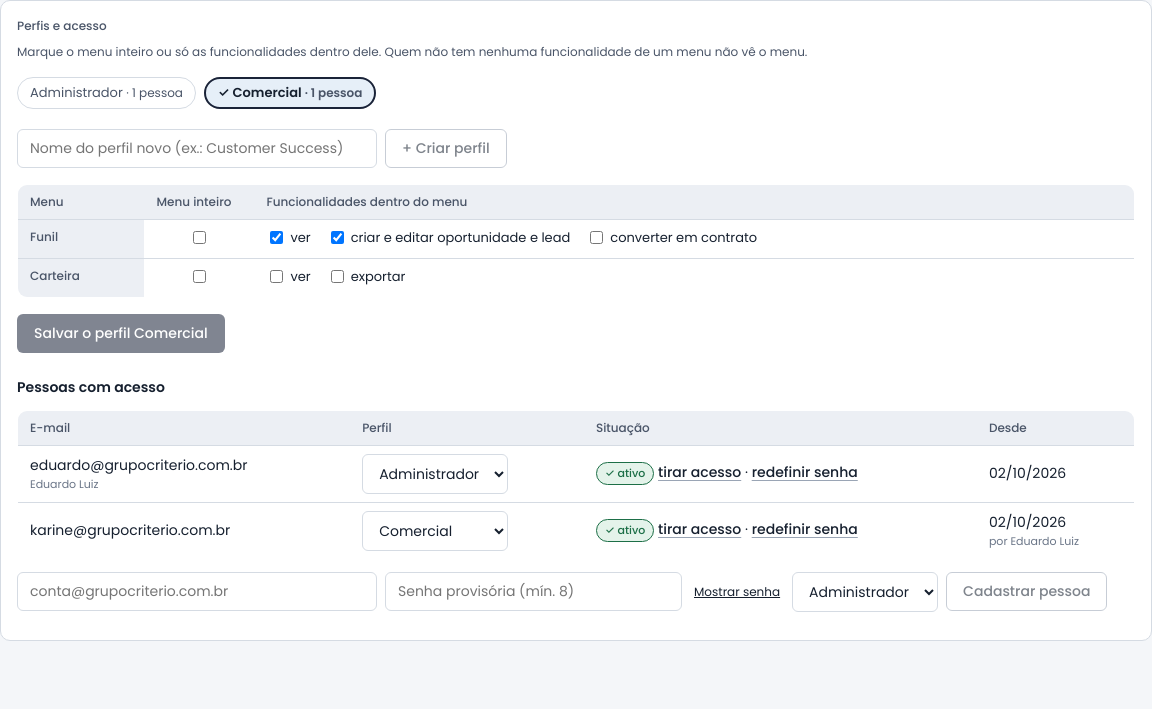
it: Perfis e acesso no login com senha (issue #89) › redefine a senha de uma pessoa
Click the button with aria-label "Redefinir senha de karine@grupocriterio.com.br".
click(805, 530)  # box [752,519,858,540]
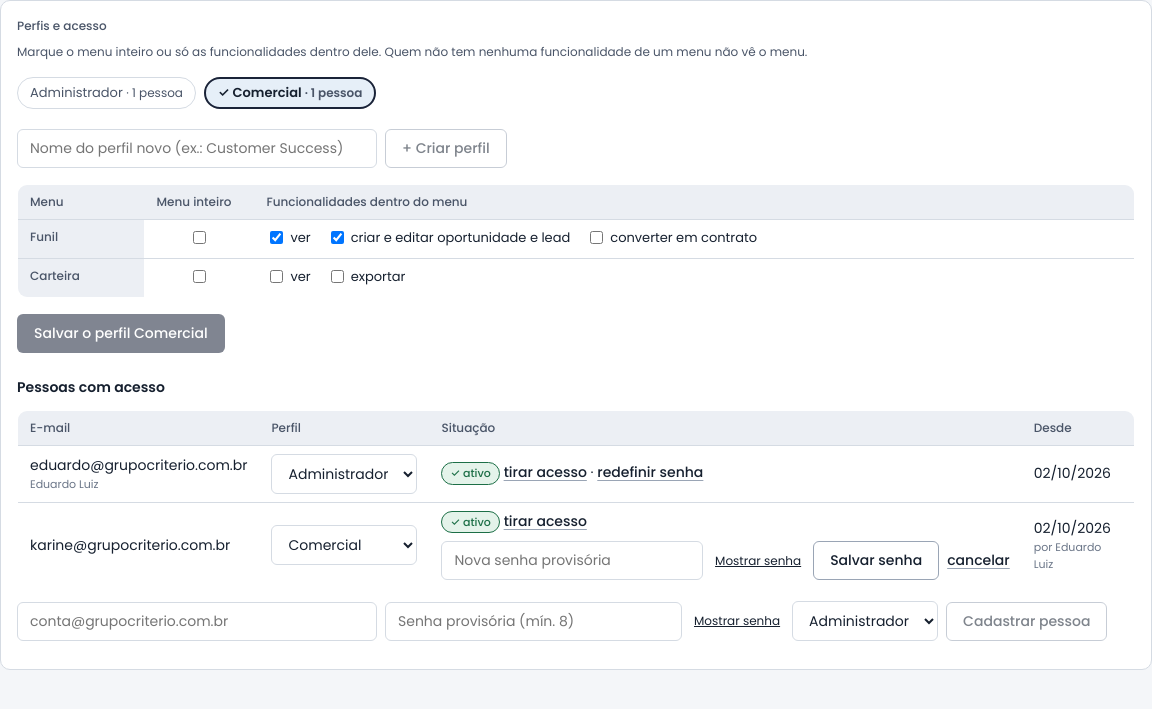
Type "1234567" into the password field named "Nova senha provisória de karine@grupocriterio.com.br".
click(572, 560); type("1234567")  # box [442,541,703,580]
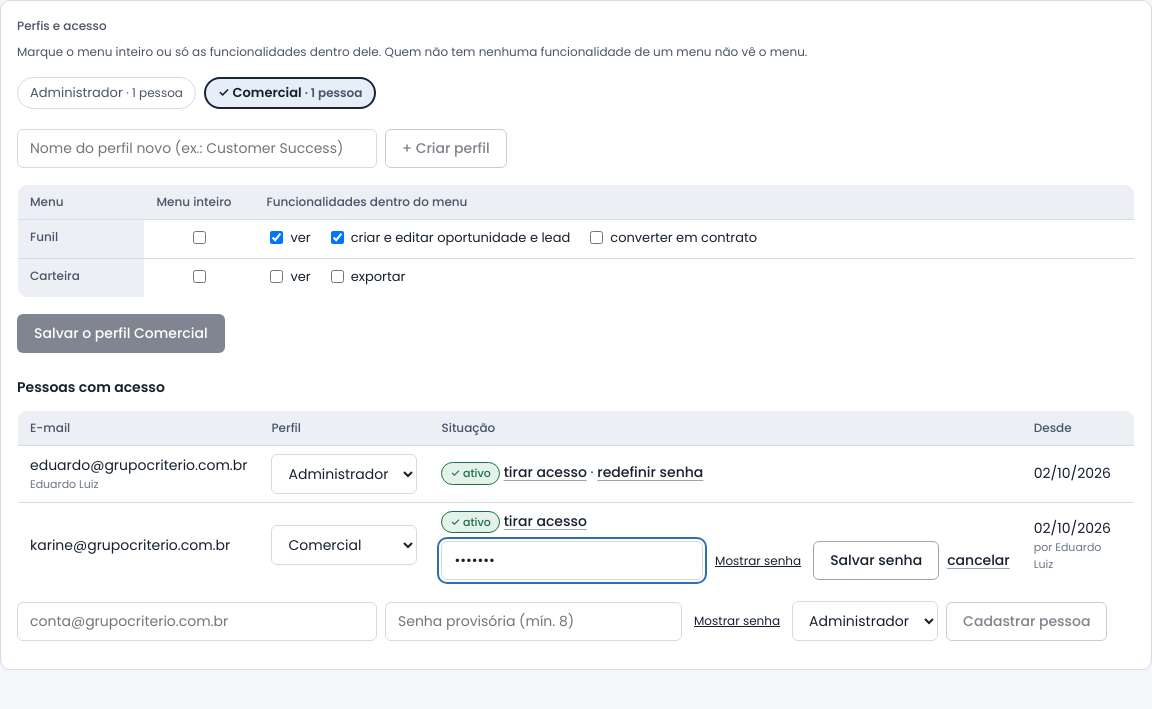
Click the button "Salvar senha".
click(876, 560)  # box [813,541,939,580]
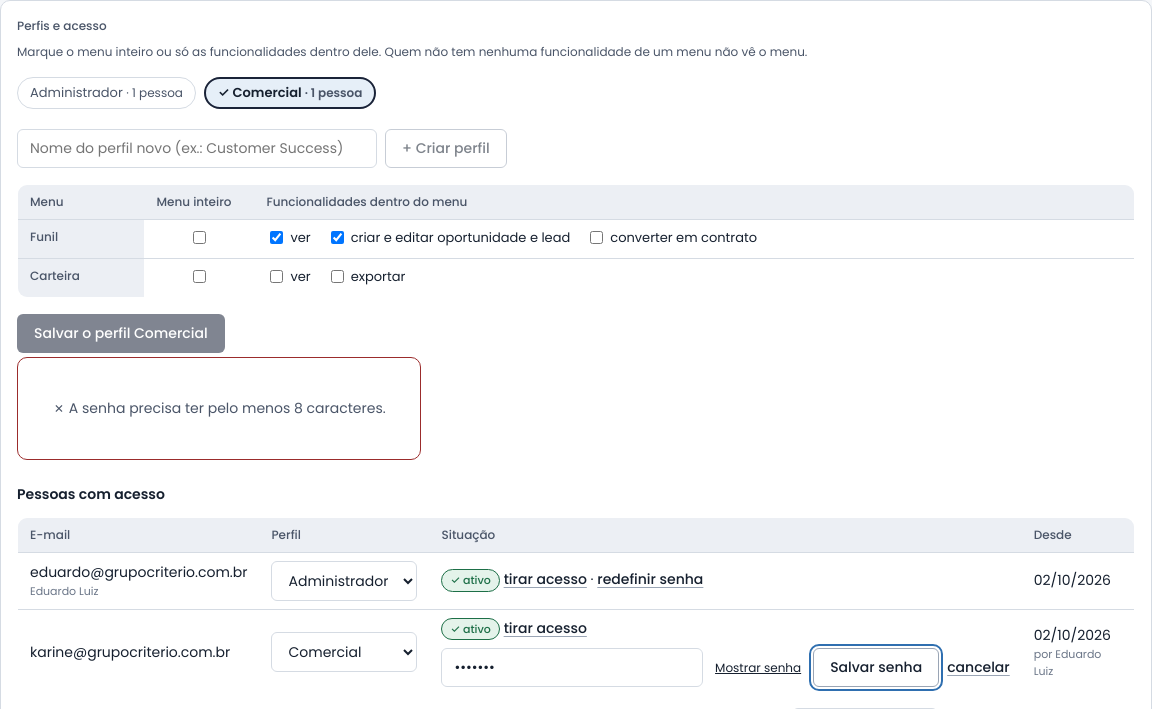
Now the message shows "pelo menos 8 caracteres", box [69,398,386,418]
Type "8" into the password field named "Nova senha provisória de karine@grupocriterio.com.br".
click(572, 668); type("8")  # box [442,648,703,687]
Then press Enter
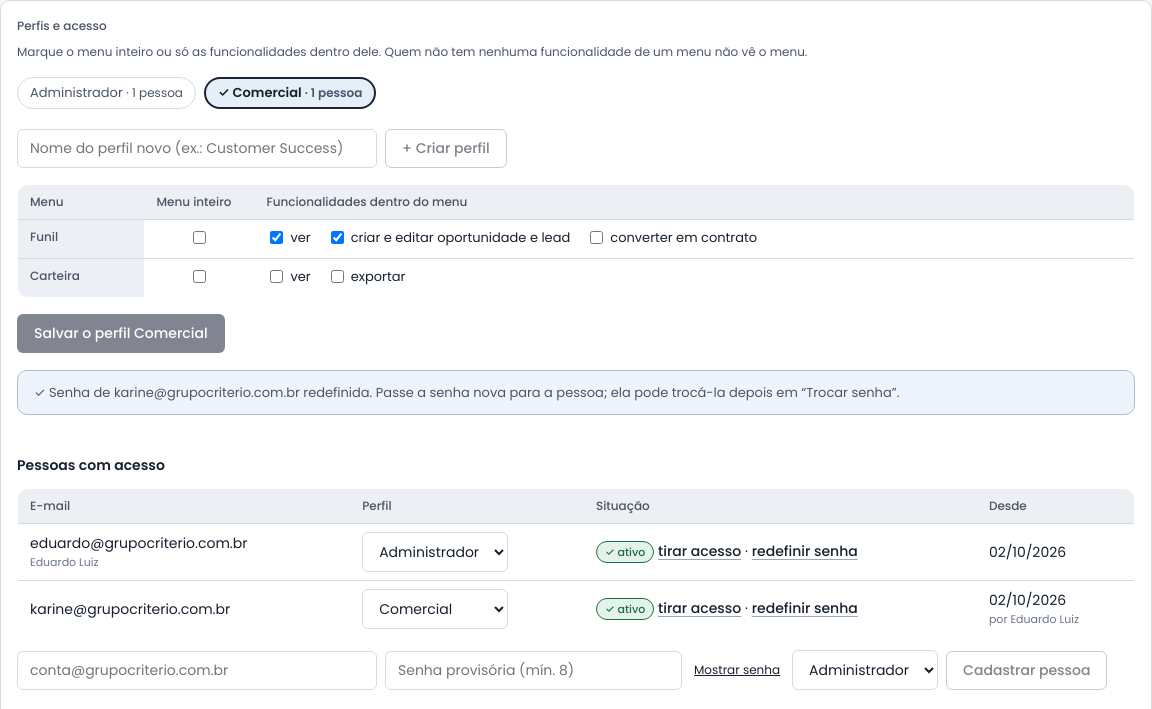
Now the message shows "Senha de karine@grupocriterio.com.br redefinida.", box [49,382,899,402]
